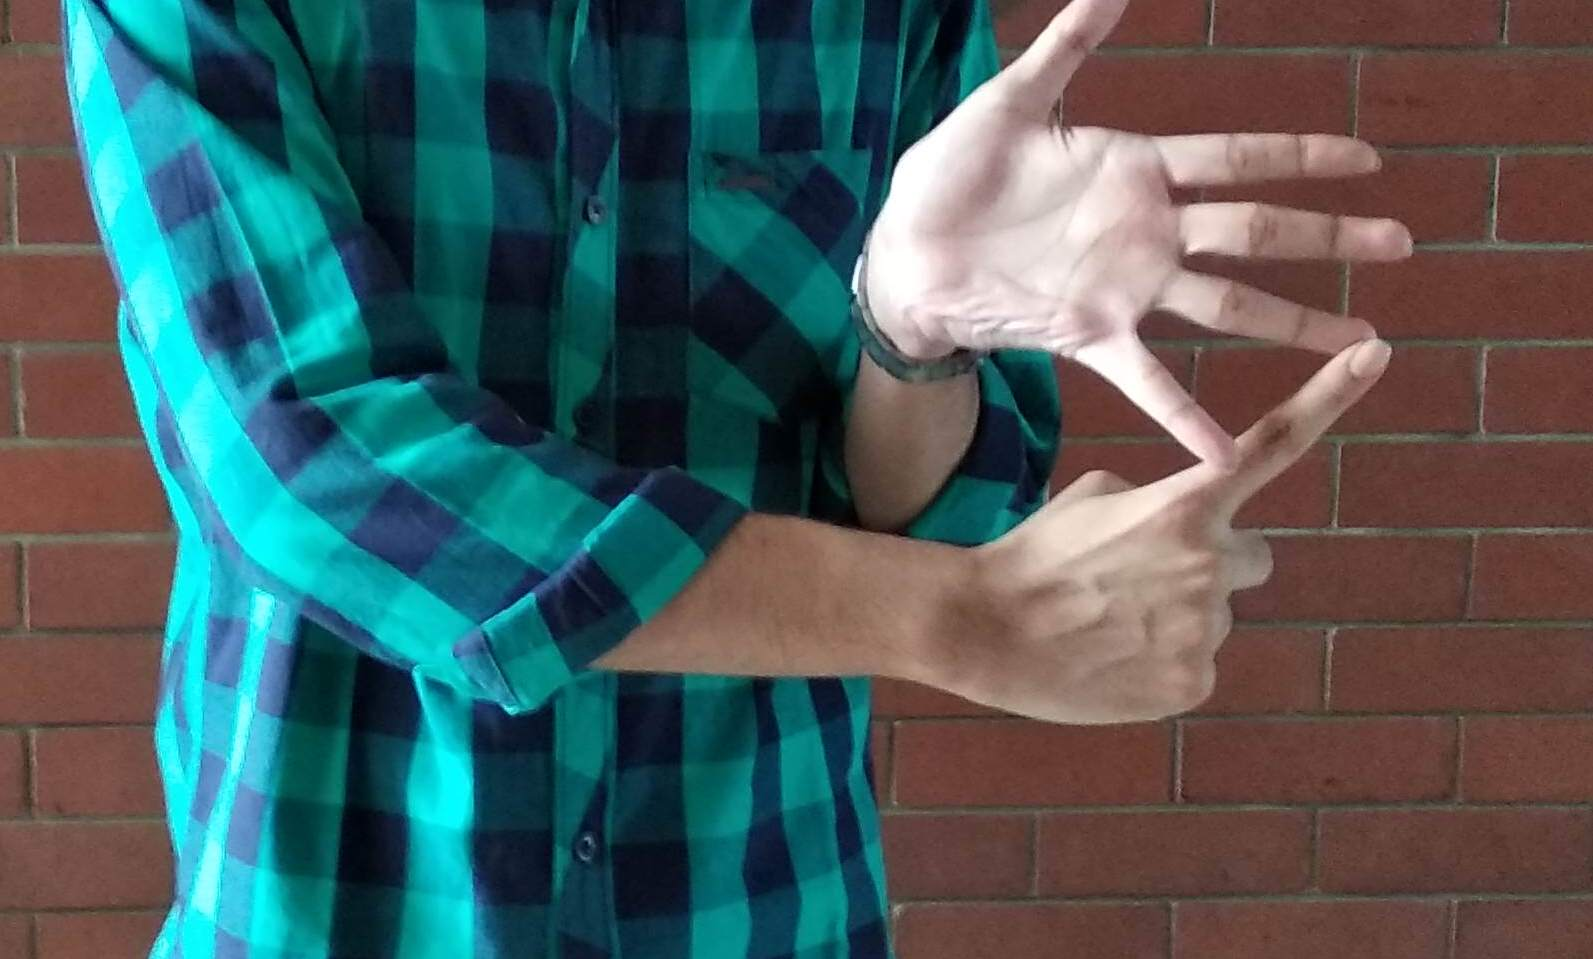e: (936, 25, 1403, 673)
